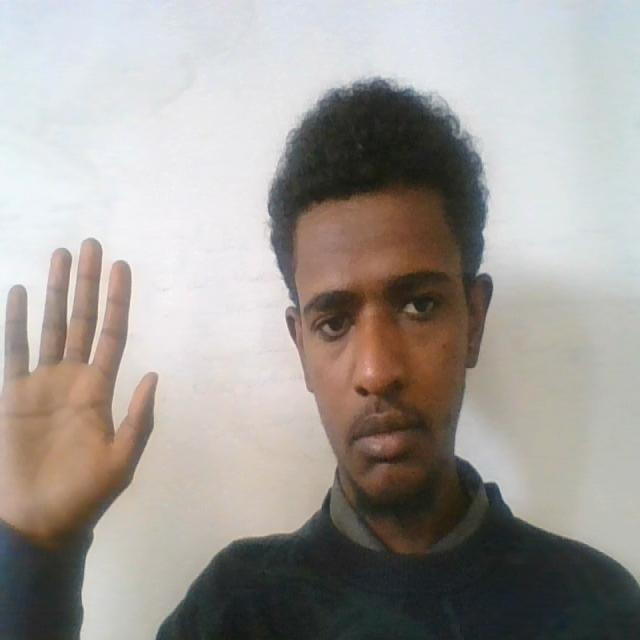hello: (1, 231, 170, 550)
